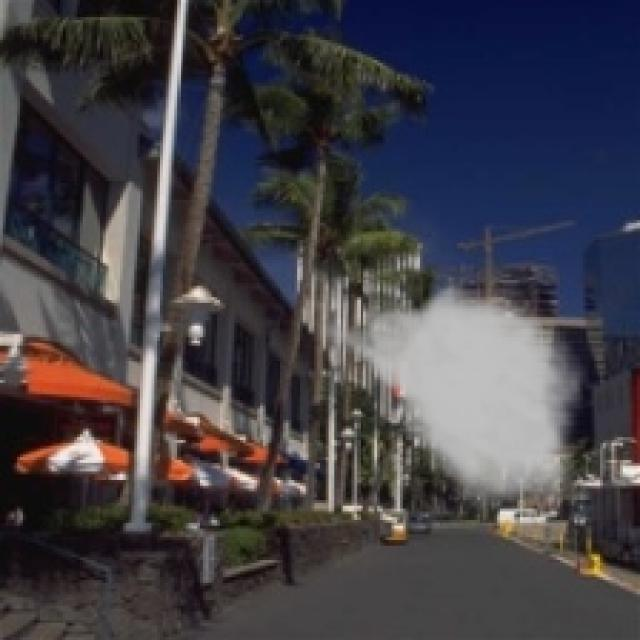smoke: (312, 274, 588, 520)
